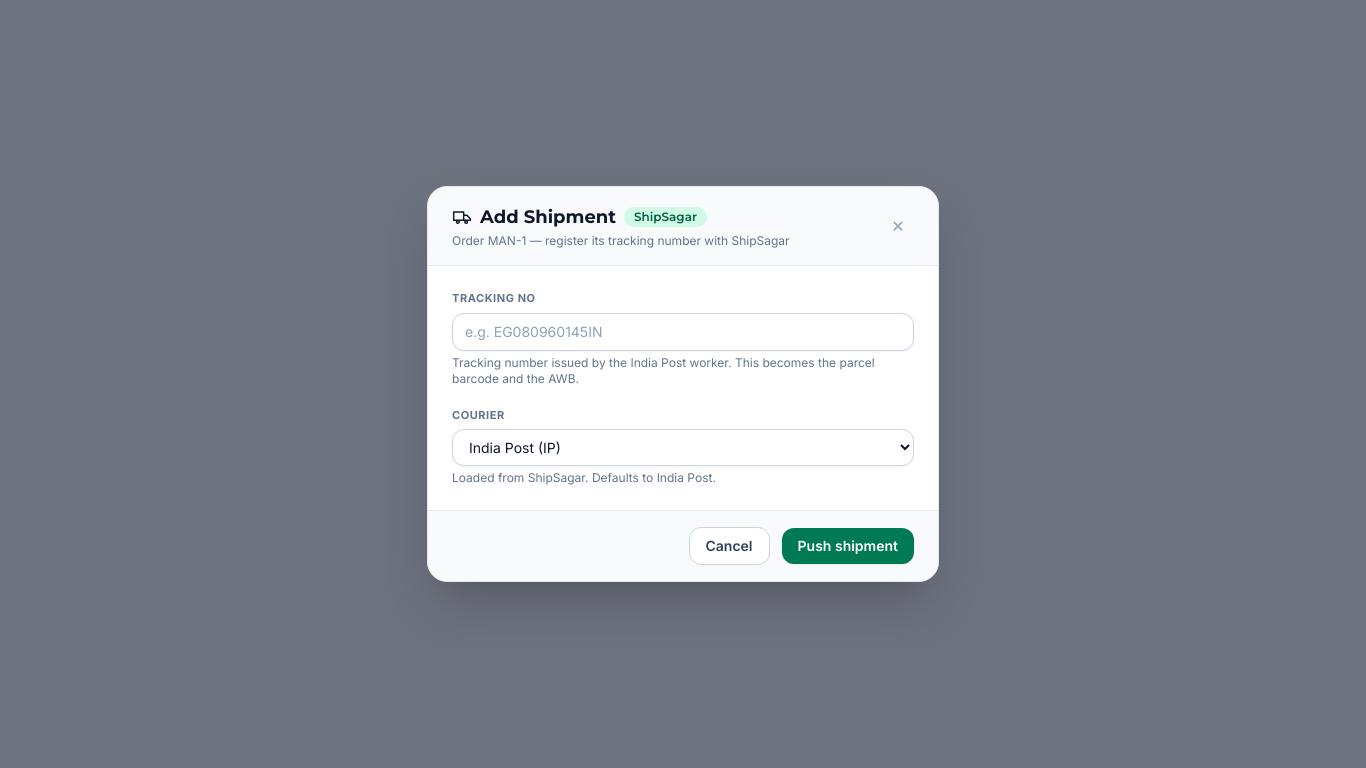
a blank tracking number is refused before any request
Expected: the dropdown labelled "Courier" is shown, [452,429,914,466]
Click the button "Push shipment" at (848, 546), box [782,528,914,564]
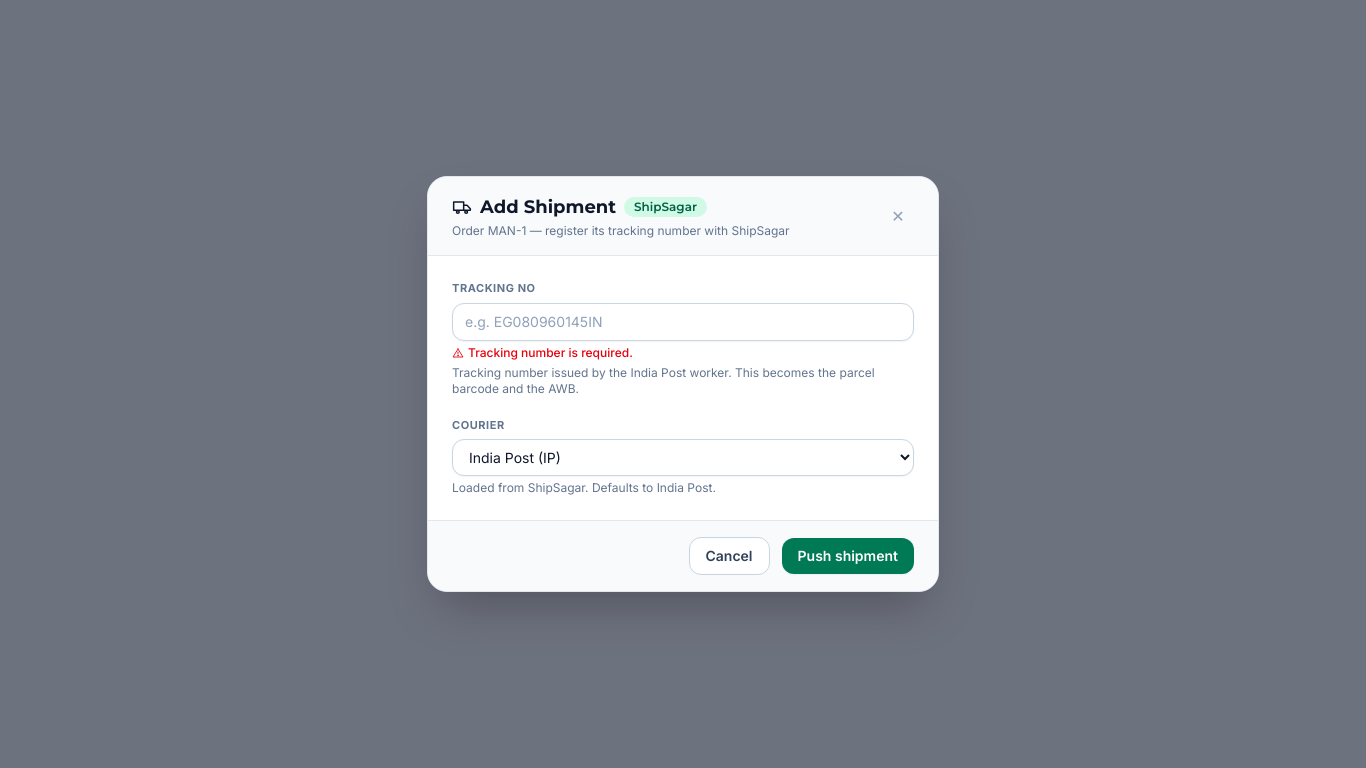
Expected: the text "Tracking number is required." is shown, [452,344,633,360]
